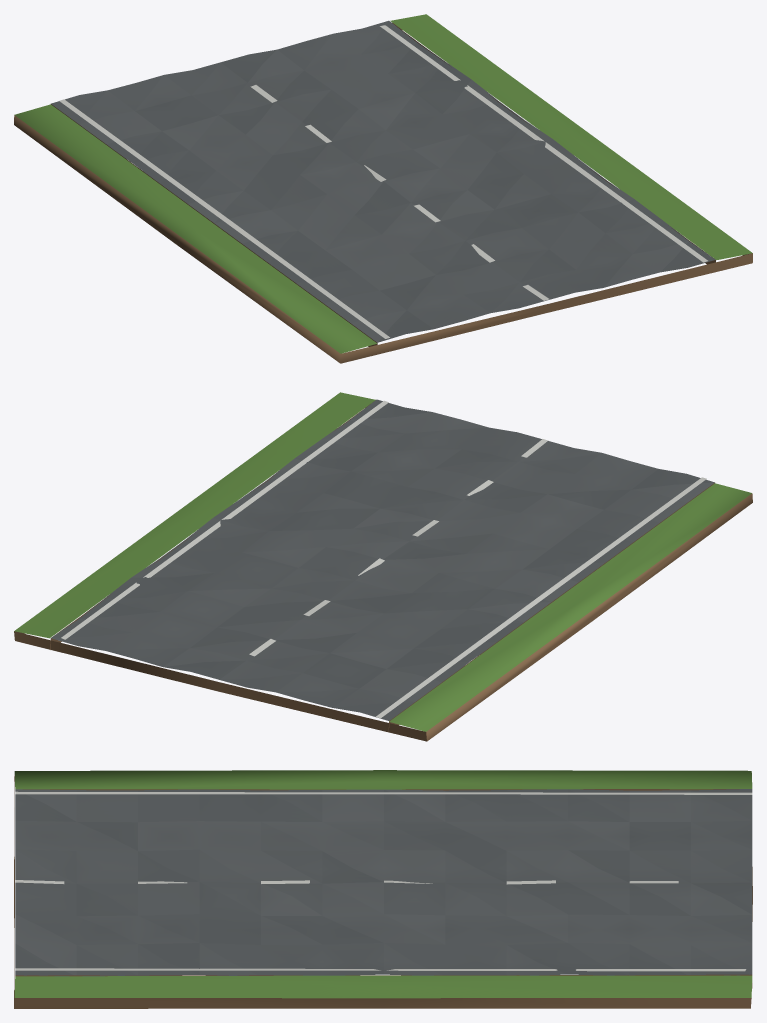
File: asphalt_straight.glb
The picture shows the model from 3 angles, top to bottom: view 1: azimuth 30°, elevation 25°; view 2: azimuth 150°, elevation 25°; view 3: azimuth 270°, elevation 25°; orthographic projection. The views are drawn at different scales.
Parts seen in each view (by area): view 1: Body.004; view 2: Body.004; view 3: Body.004.
Part boxes in pixels (box(x1,y1,x2,y2)): Body.004: box(14, 14, 752, 363); Body.004: box(14, 392, 752, 741); Body.004: box(14, 770, 752, 1008).
Size of the model in its own units: 7.3 by 0.229 by 10.
